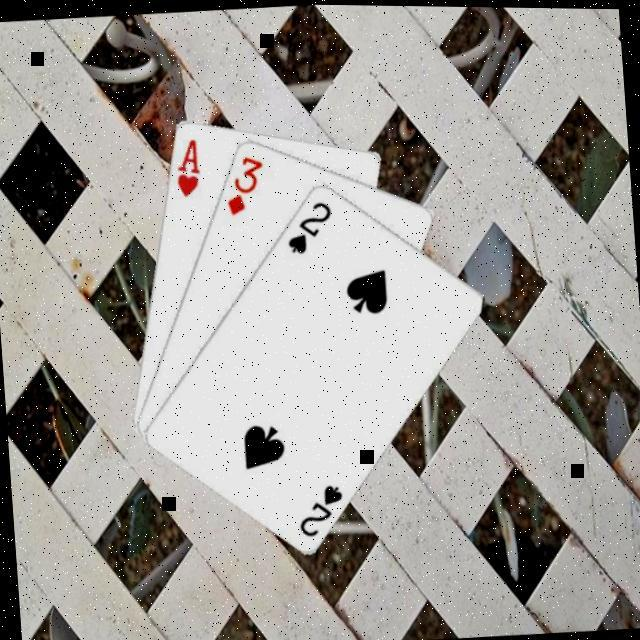2S: (280, 194, 336, 256), (292, 476, 347, 538)
3D: (219, 148, 268, 218)
AH: (168, 132, 202, 198)
